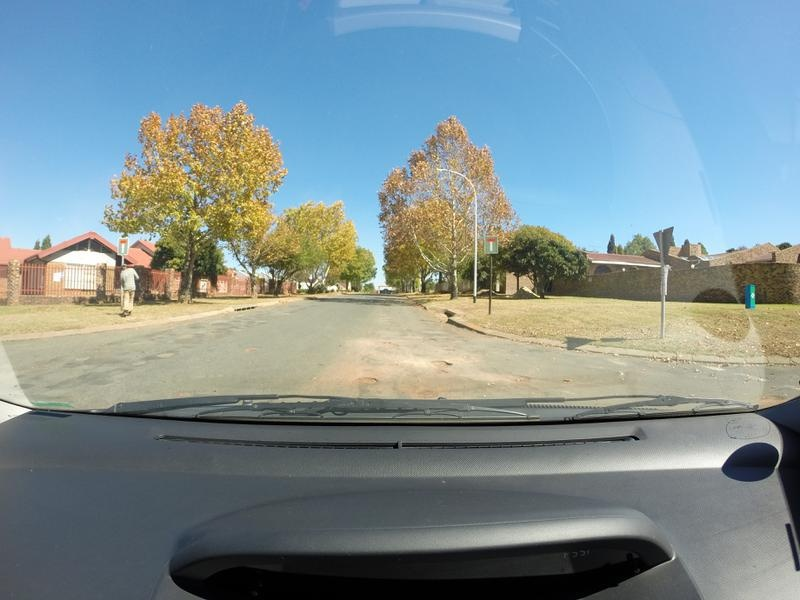pothole: (333, 374, 381, 394), (424, 359, 451, 376)
